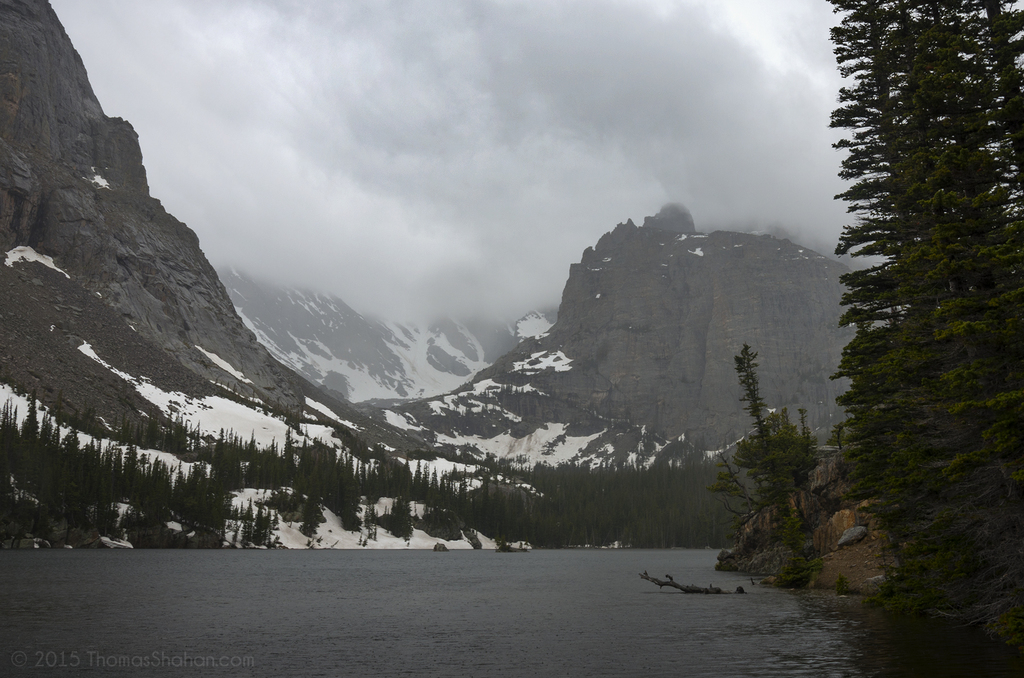Tree: (824, 0, 1023, 672), (705, 339, 819, 523)
